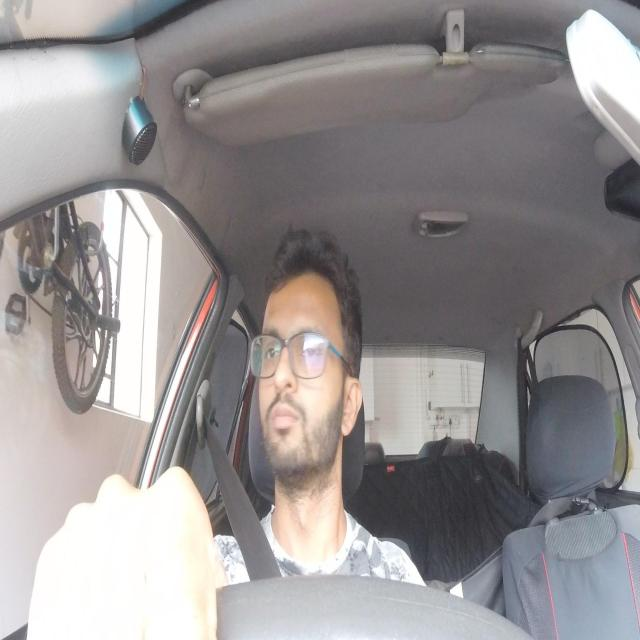open: (290, 321, 325, 371), (256, 324, 285, 374)
